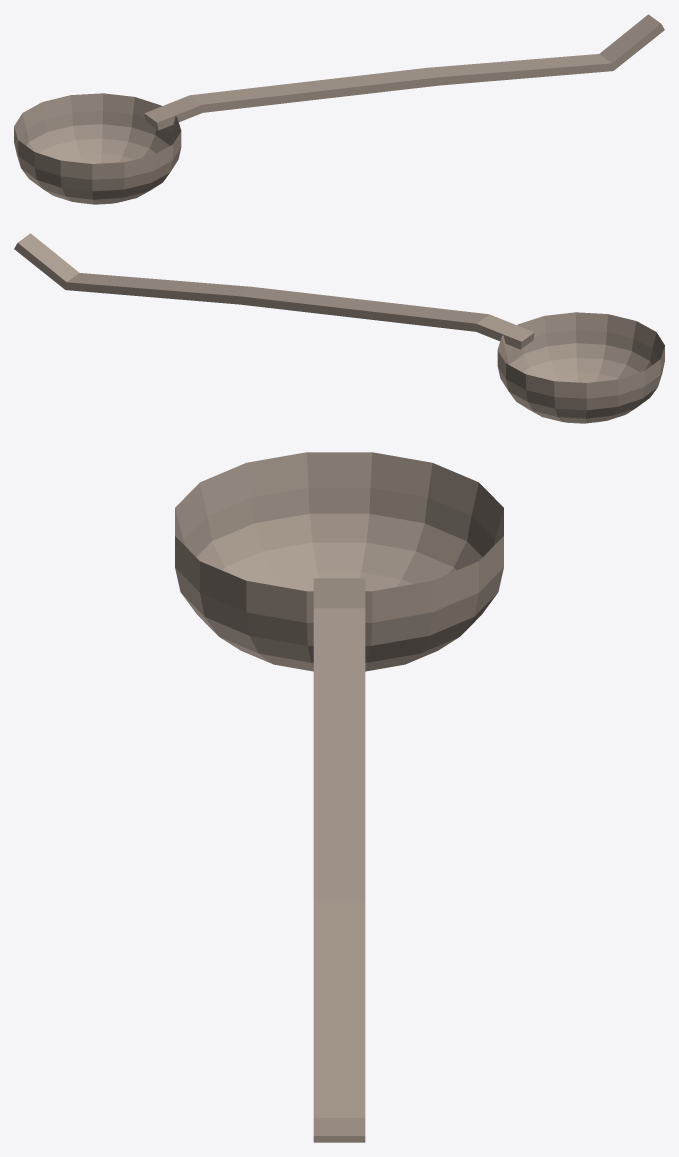
Rendered from SM_Cook_Ladle_01.fbx.
The picture shows the model from 3 angles, top to bottom: view 1: azimuth 30°, elevation 25°; view 2: azimuth 150°, elevation 25°; view 3: azimuth 270°, elevation 25°; orthographic projection. The views are drawn at different scales.
Parts seen in each view (by area): view 1: SM_Cook_Ladle_01; view 2: SM_Cook_Ladle_01; view 3: SM_Cook_Ladle_01.
Boxes of the visible parts, x1=… form: SM_Cook_Ladle_01: x1=14, y1=14, x2=664, y2=204; SM_Cook_Ladle_01: x1=14, y1=233, x2=664, y2=423; SM_Cook_Ladle_01: x1=175, y1=452, x2=503, y2=1142.
Bounding box in the file's own units: 0.5654 × 0.0595 × 0.1275.
Materials: 1 (1 with a texture image).
